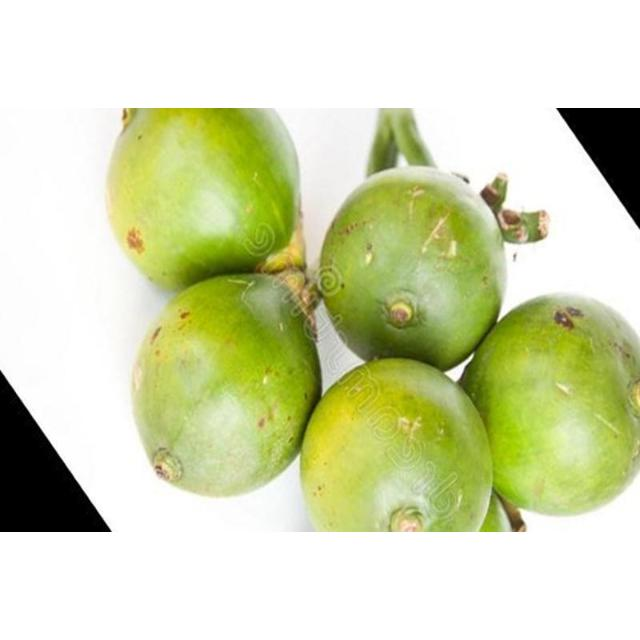good: (131, 274, 323, 501), (458, 294, 639, 518), (318, 166, 506, 376), (105, 108, 303, 294), (299, 358, 498, 532)
